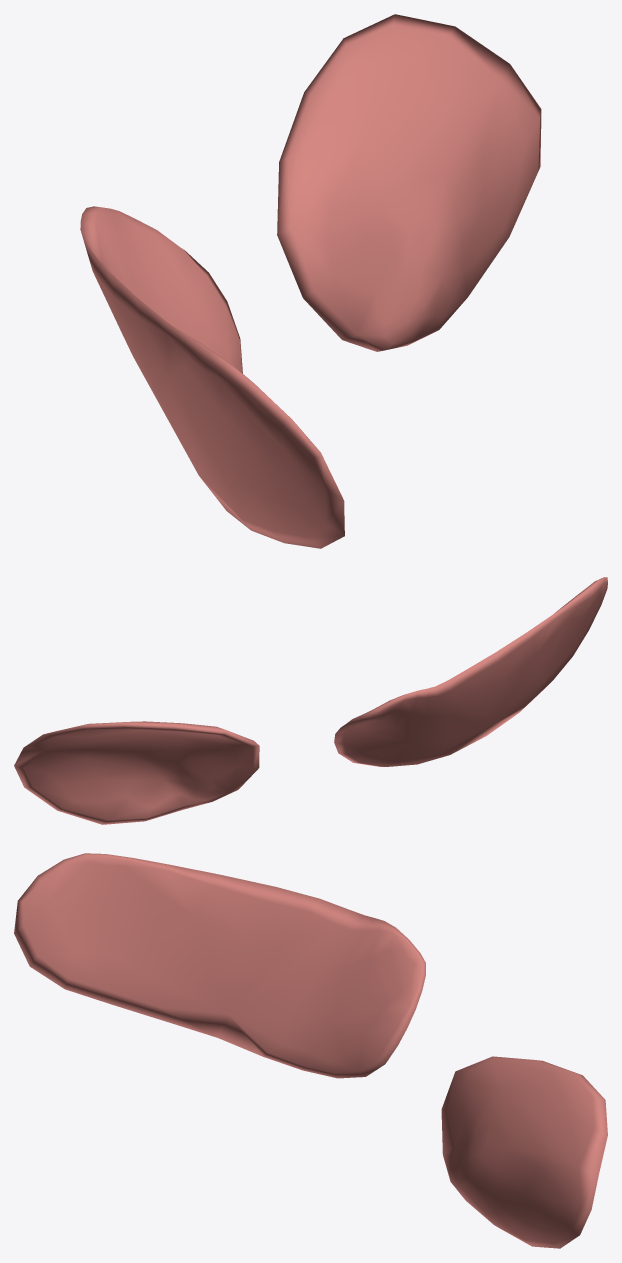
The picture shows the model from 3 angles, top to bottom: view 1: azimuth 30°, elevation 25°; view 2: azimuth 150°, elevation 25°; view 3: azimuth 270°, elevation 25°; orthographic projection. The views are drawn at different scales.
Parts seen in each view (by area): view 1: ZA_7cec70f46dd1fe2a; view 2: ZA_7cec70f46dd1fe2a; view 3: ZA_7cec70f46dd1fe2a.
Boxes of the visible parts, left/top/right/bottom form: ZA_7cec70f46dd1fe2a: left=80, top=14, right=541, bottom=548; ZA_7cec70f46dd1fe2a: left=14, top=577, right=607, bottom=824; ZA_7cec70f46dd1fe2a: left=14, top=853, right=607, bottom=1248.
Size of the model in its own units: 0.0227 by 0.0106 by 0.0264.
